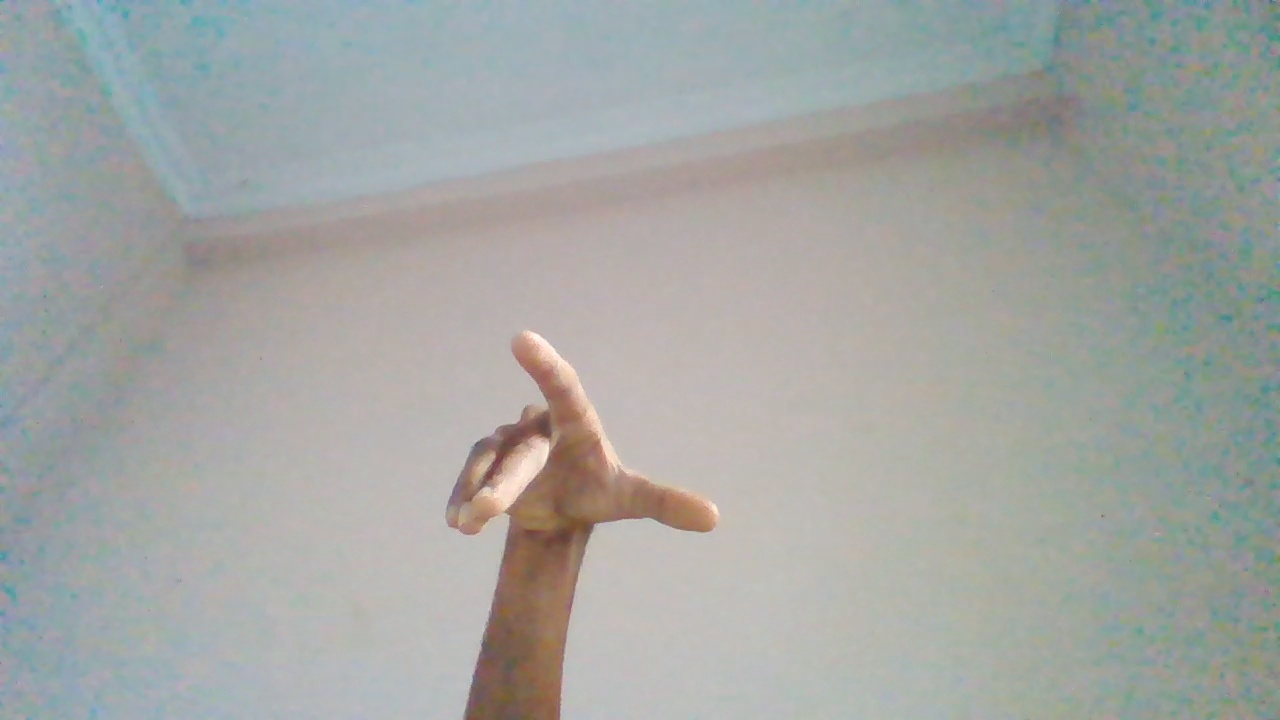ke: (442, 331, 720, 681)
